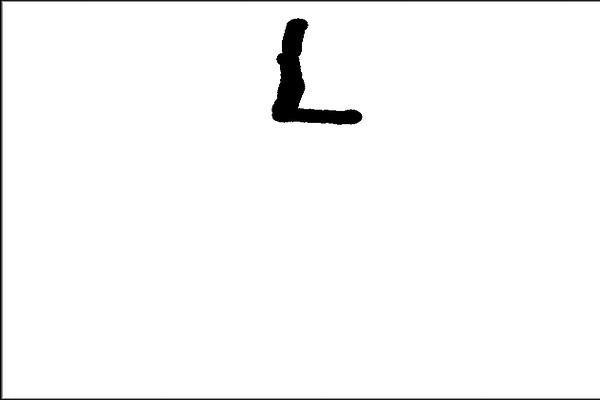L: (264, 13, 367, 134)
